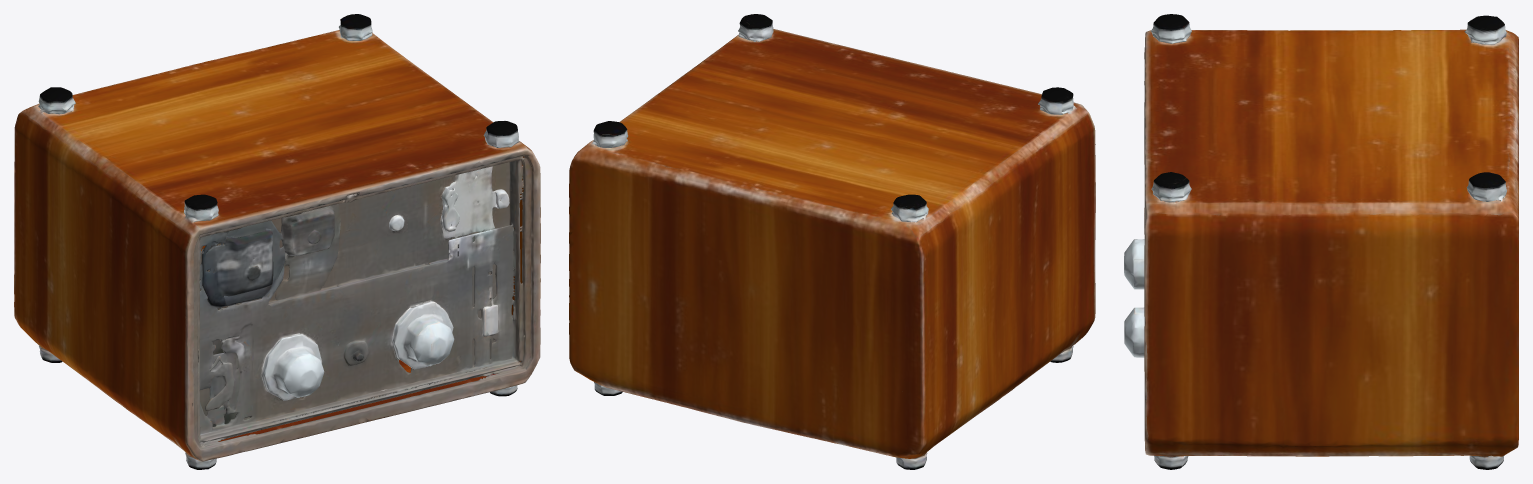
3 renders of one model, left to right at view 1: azimuth 30°, elevation 25°; view 2: azimuth 150°, elevation 25°; view 3: azimuth 270°, elevation 25°, orthographic. The views are drawn at different scales.
Visible parts, largest first — view 1: geometry_0; view 2: geometry_0; view 3: geometry_0.
Part boxes in pixels (<box>): geometry_0: <box>14,14,540,469</box>; geometry_0: <box>569,14,1095,469</box>; geometry_0: <box>1124,14,1518,469</box>.
Bounding box in the file's own units: 1 × 0.729 × 0.8972.
1 material, 1 textured.
